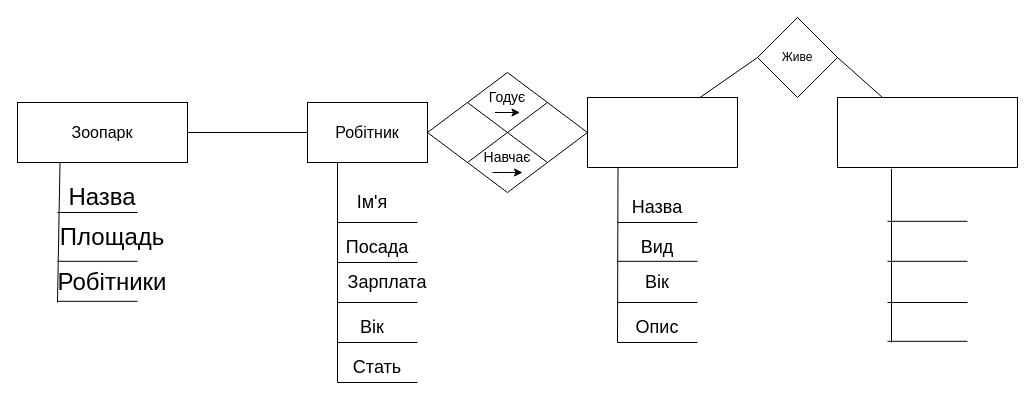
This 1035x401 diagram has some shape labels left out. Here are the shapes that lost their labels. From the top down, the centre of each, then its label:
At point 662,132: "Тварини".
At point 927,132: "Вольєр".
